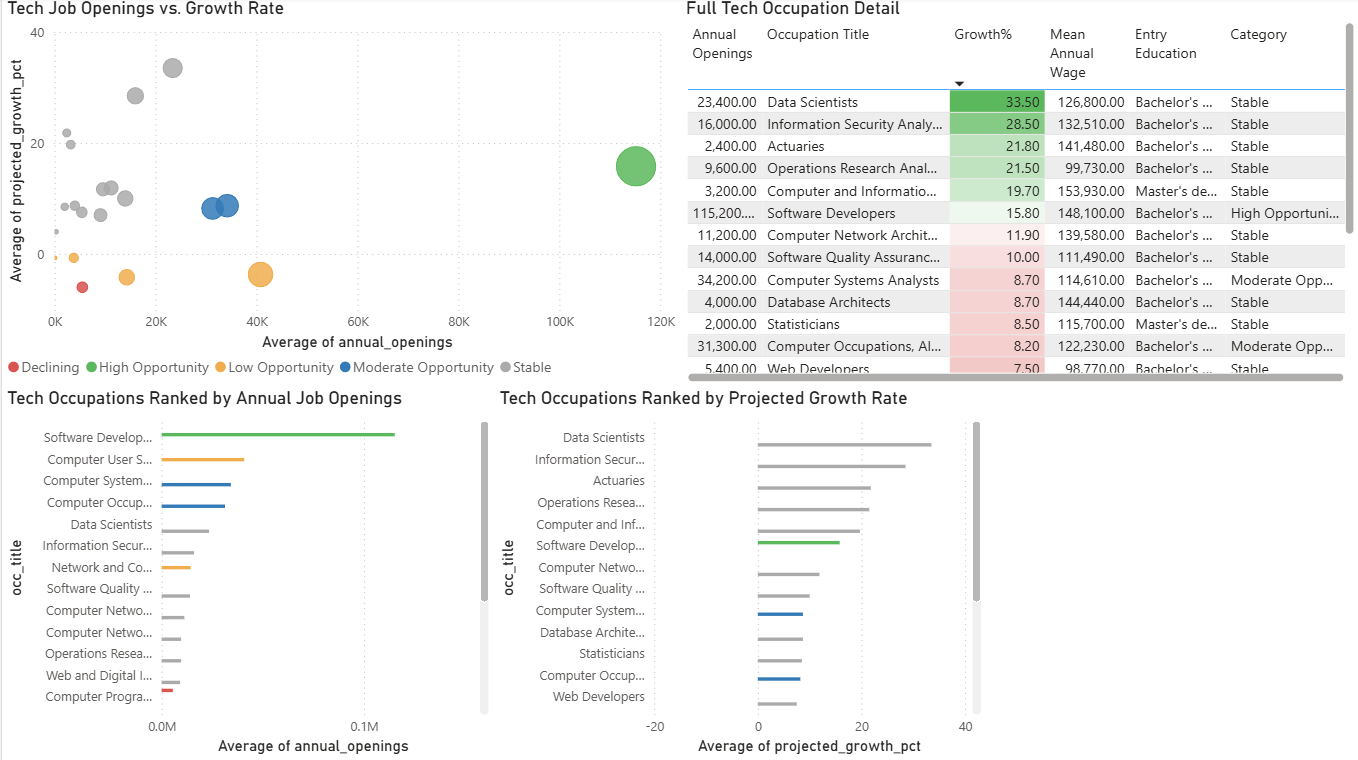

Layout of this report page (visuals, bound fields, positions):
{"tool":"powerbi","page":{"name":"Tech Job Deep Dive","canvas":[1280,720],"ordinal":1},"visuals":[{"type":"scatterChart","title":"Tech Job Openings vs. Growth Rate","fields":{"X":["Avg(tech_job_opportunity_final.annual_openings)"],"Y":["Avg(tech_job_opportunity_final.projected_growth_pct)"],"Category":["tech_job_opportunity_final.annual_openings"],"Size":["Avg(tech_job_opportunity_final.annual_openings)"],"Series":["tech_job_opportunity_final.opportunity_label"]},"box":[0,0,640,368],"z":0},{"type":"clusteredBarChart","title":"Tech Occupations Ranked by Annual Job Openings","fields":{"Category":["tech_job_opportunity_final.occ_title"],"Y":["Avg(tech_job_opportunity_final.annual_openings)"],"Series":["tech_job_opportunity_final.opportunity_label"]},"box":[0,368,464,352],"z":1},{"type":"clusteredBarChart","title":"Tech Occupations Ranked by Projected Growth Rate","fields":{"Category":["tech_job_opportunity_final.occ_title"],"Y":["Avg(tech_job_opportunity_final.projected_growth_pct)"],"Series":["tech_job_opportunity_final.opportunity_label"]},"box":[464,368,464,352],"z":2},{"type":"tableEx","title":"Full Tech Occupation Detail","fields":{"Values":["Avg(tech_job_opportunity_final.annual_openings)","tech_job_opportunity_final.occ_title","Avg(tech_job_opportunity_final.projected_growth_pct)","Avg(tech_job_opportunity_final.annual_mean_wage)","tech_job_opportunity_final.entry_edu","tech_job_opportunity_final.opportunity_label"]},"box":[640,0,640,368],"z":3}]}

Visuals, with their boxes in screenshot pixels (x1, y1, x2, y2), scaled from the page's 1280x720 canvas onto the 1358x760 screenshot:
"Tech Job Openings vs. Growth Rate" scatterChart: x1=0 y1=0 x2=679 y2=388
"Tech Occupations Ranked by Annual Job Openings" clusteredBarChart: x1=0 y1=388 x2=492 y2=759
"Tech Occupations Ranked by Projected Growth Rate" clusteredBarChart: x1=492 y1=388 x2=985 y2=759
"Full Tech Occupation Detail" tableEx: x1=679 y1=0 x2=1357 y2=388
